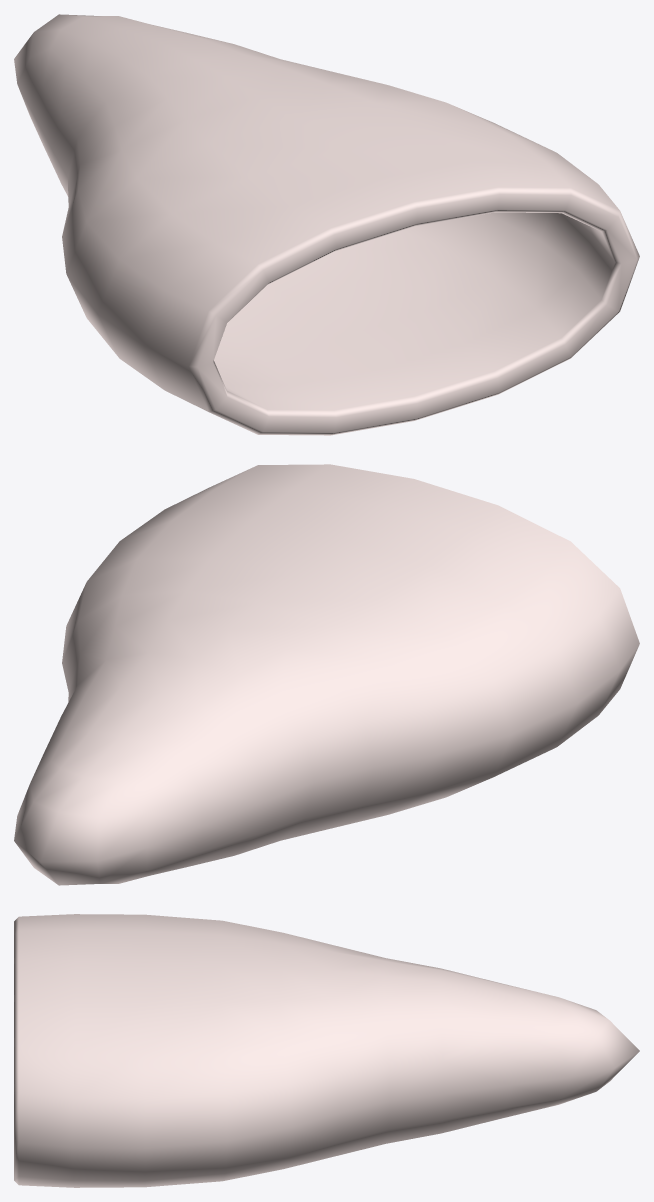
Rendered from Squid_2_Fillet_2.fbx.
3 renders of one model, top to bottom at view 1: azimuth 30°, elevation 25°; view 2: azimuth 150°, elevation 25°; view 3: azimuth 270°, elevation 25°, orthographic. The views are drawn at different scales.
Visible parts, largest first — view 1: Squid_2_Fillet_2; view 2: Squid_2_Fillet_2; view 3: Squid_2_Fillet_2.
Boxes of the visible parts, x1,y1,x2,y2 form: Squid_2_Fillet_2: [14, 14, 639, 435]; Squid_2_Fillet_2: [14, 464, 639, 885]; Squid_2_Fillet_2: [14, 914, 639, 1187].
Bounding box in the file's own units: 12.25 × 5.34 × 16.63.
